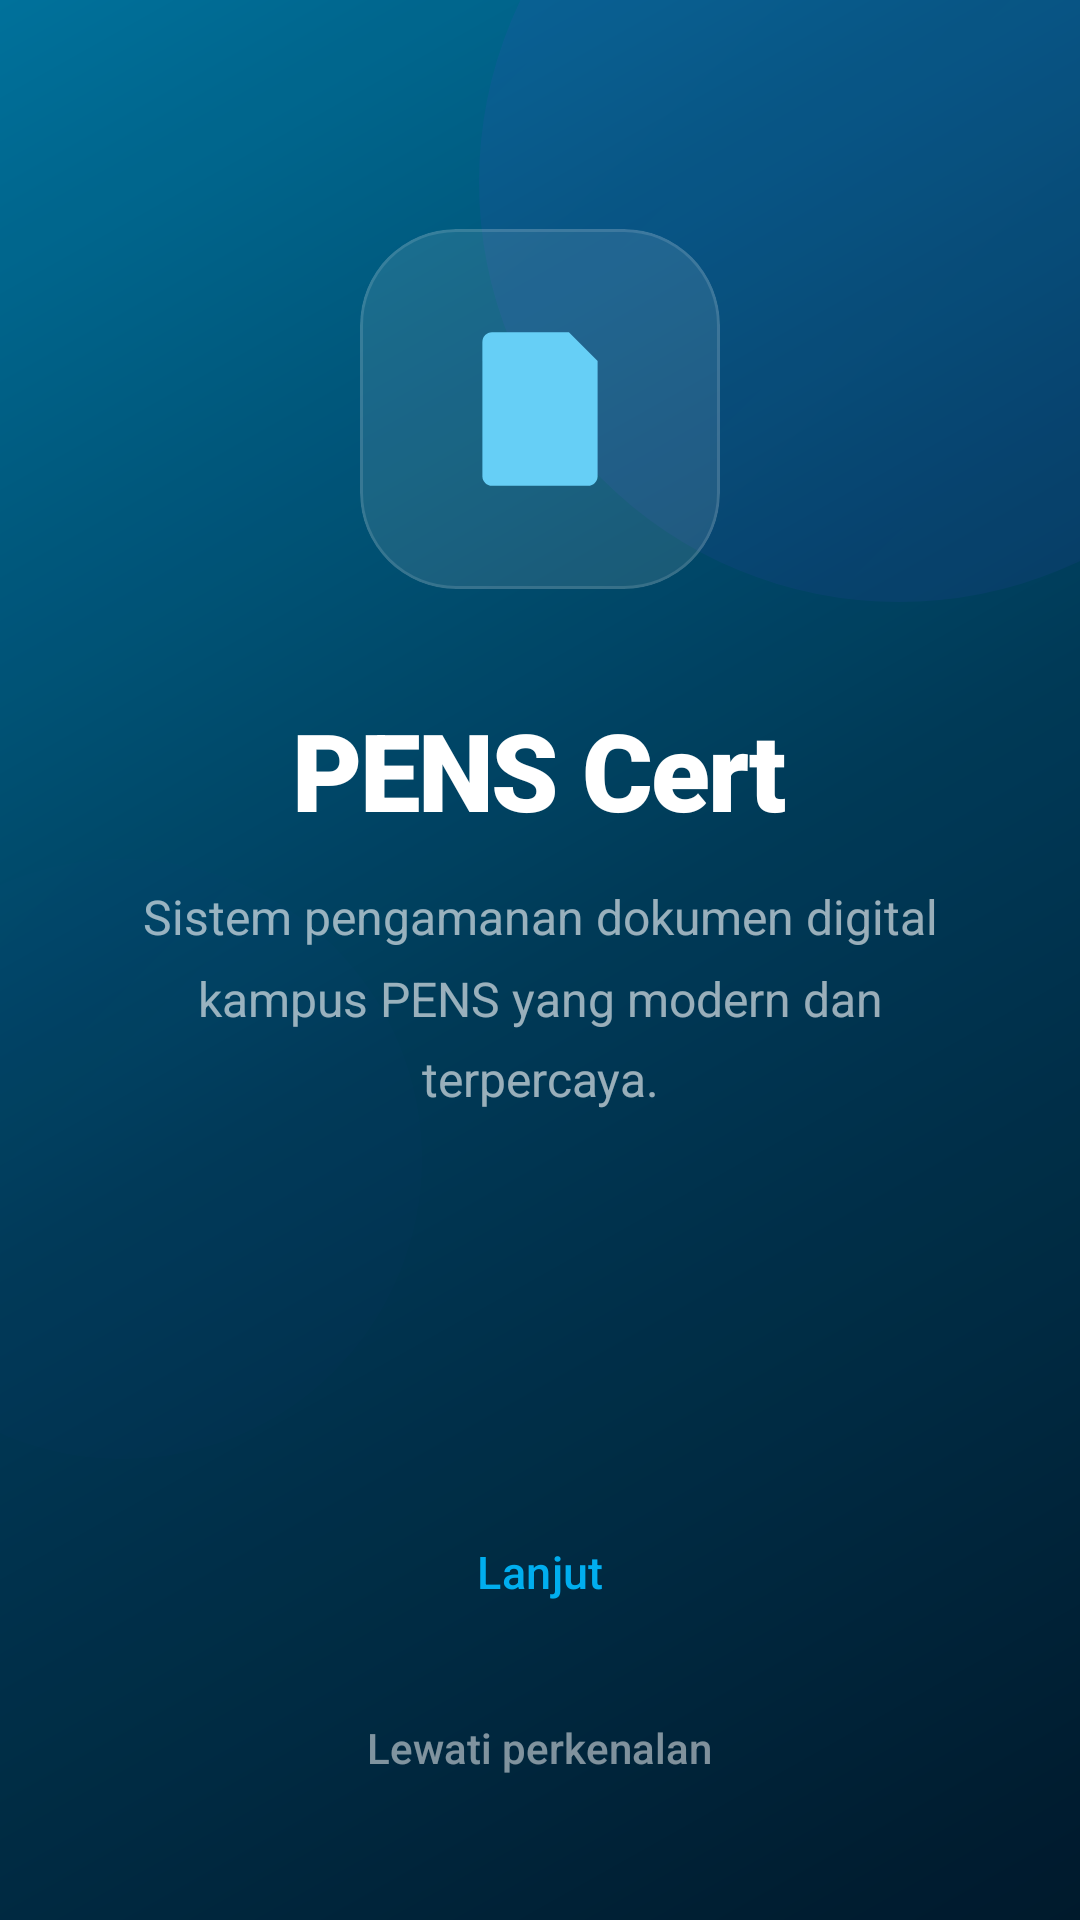

Where icons sit on this 1080x1920 app screen, as (x1, y1, x2, y2):
pens doc: (360, 229, 720, 589)
